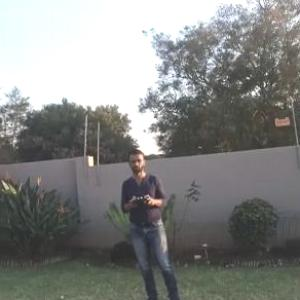follow: (114, 144, 188, 299)
